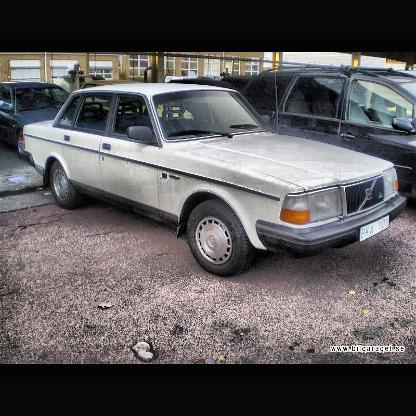Volvo 240 Sedan 1993: (22, 84, 408, 277)
